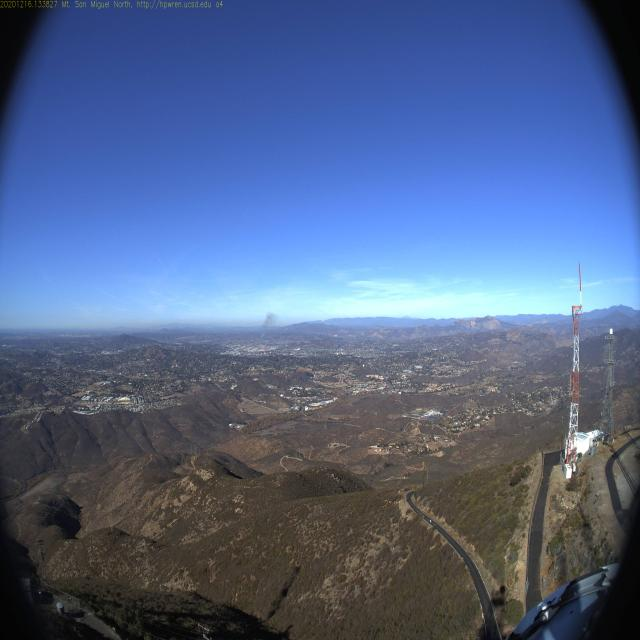smoke: (260, 310, 280, 335)
